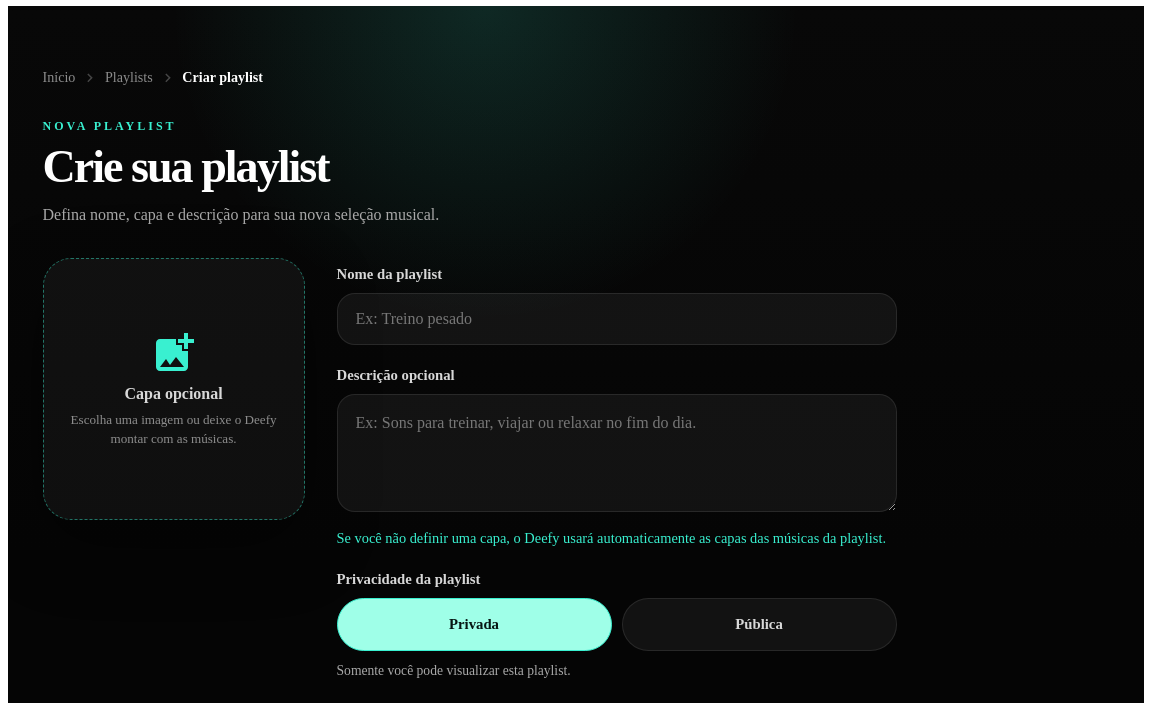
Scenario: creates a playlist with publica=false and opens its detail
In the field labelled "Nome da playlist": (616, 319) [336,293,896,345], type "Nova seleção"
(page scrolled)
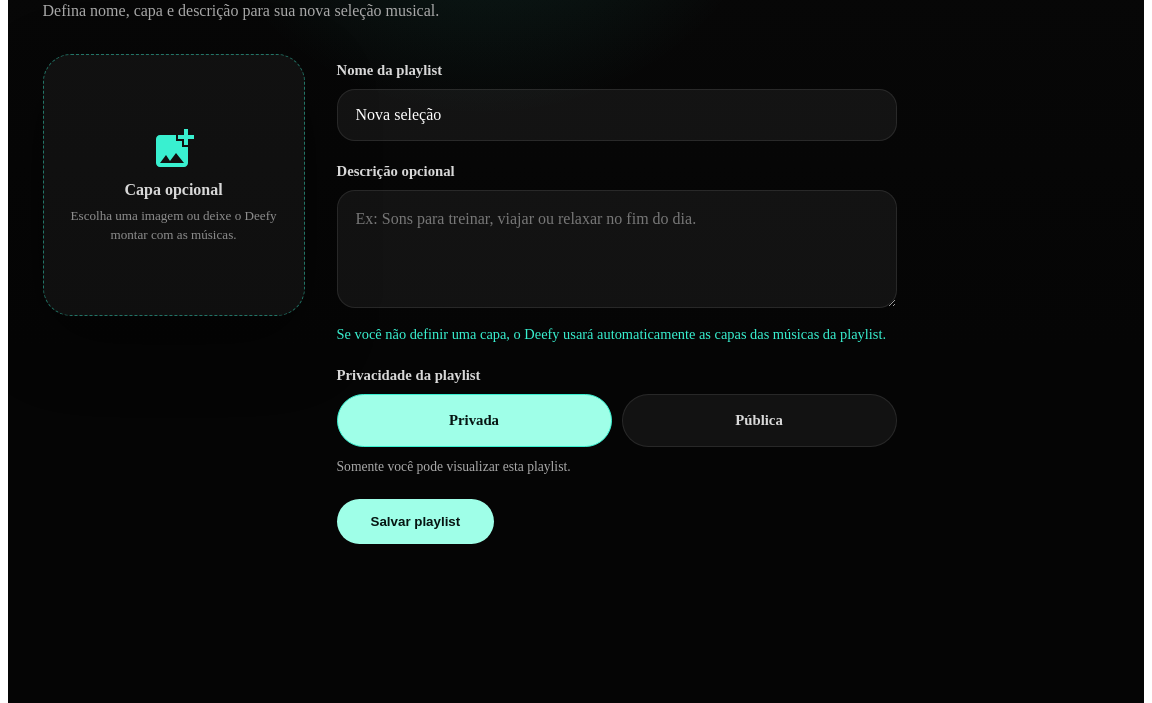
Click the button "Salvar playlist": (415, 521) [336,499,494,544]
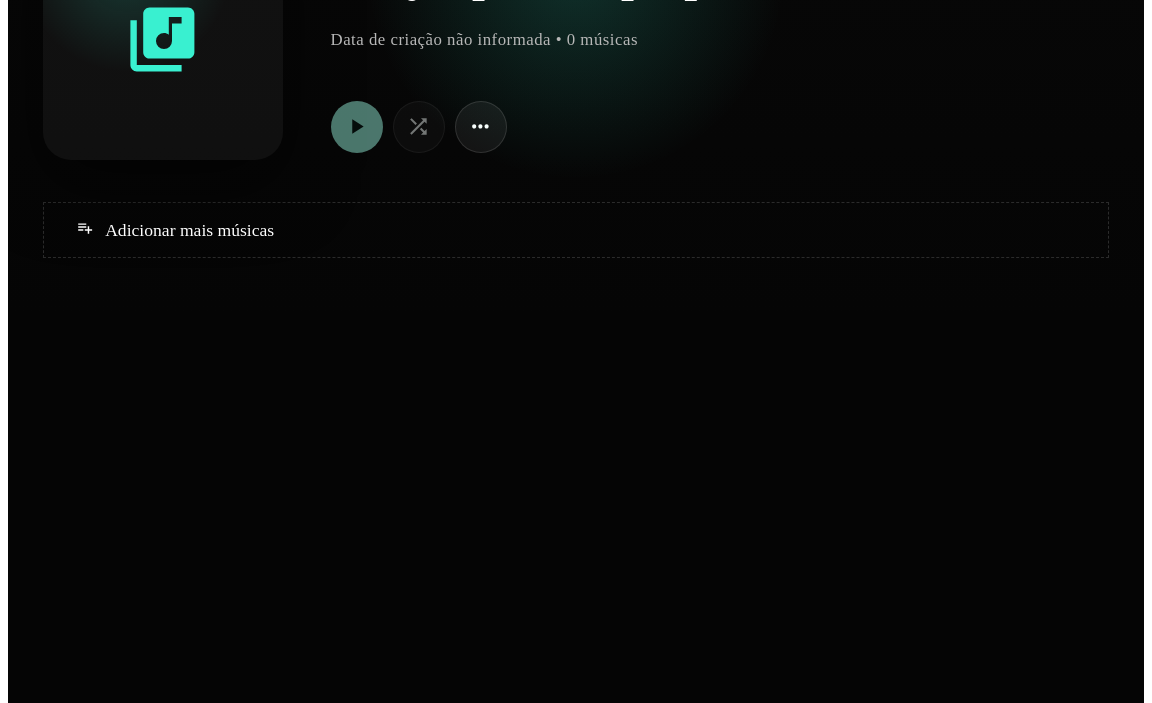
Expected: the link "Adicionar mais músicas" is shown, [42,202,1109,258]
